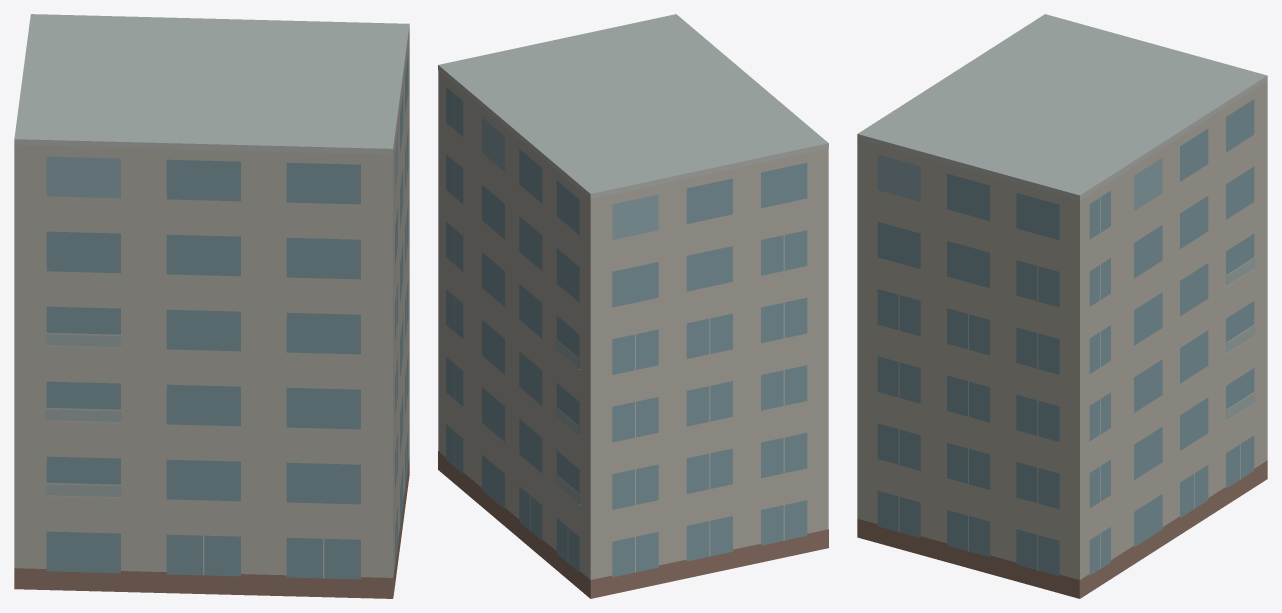
Rendered from survey-upis-32707436.glb.
The picture shows the model from 3 angles, left to right: view 1: azimuth 30°, elevation 25°; view 2: azimuth 150°, elevation 25°; view 3: azimuth 270°, elevation 25°; orthographic projection. The views are drawn at different scales.
Parts seen in each view (by area): view 1: survey-upis-32707436.tmp; view 2: survey-upis-32707436.tmp; view 3: survey-upis-32707436.tmp.
Boxes of the visible parts, <box> form: survey-upis-32707436.tmp: <box>14,14,409,598</box>; survey-upis-32707436.tmp: <box>438,14,828,598</box>; survey-upis-32707436.tmp: <box>857,14,1267,598</box>.
Size of the model in its own units: 17.85 by 18.5 by 17.06.
